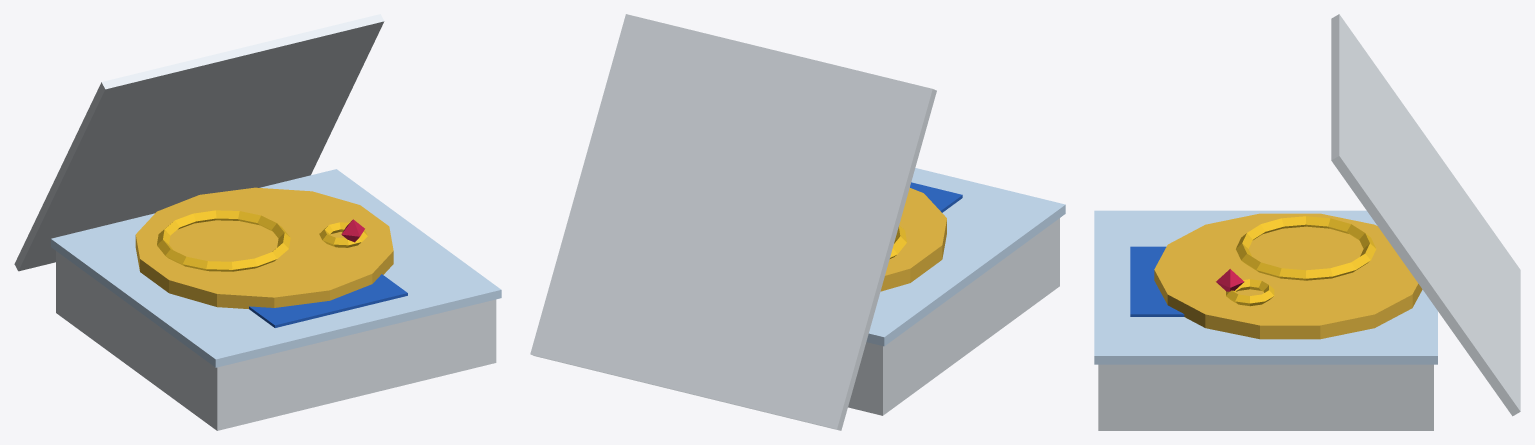
The model's file is frozen_pizza_jewels.glb.
The picture shows the model from 3 angles, left to right: view 1: azimuth 30°, elevation 25°; view 2: azimuth 150°, elevation 25°; view 3: azimuth 270°, elevation 25°; orthographic projection. The views are drawn at different scales.
Parts seen in each view (by area): view 1: lid_frozen_card, box_frozen_card, frost_frost, cheese_pizza_cheese, necklace_jewel_gold, label_frozen_label, ring_jewel_gold; view 2: lid_frozen_card, box_frozen_card, frost_frost, cheese_pizza_cheese, label_frozen_label; view 3: lid_frozen_card, cheese_pizza_cheese, box_frozen_card, frost_frost, necklace_jewel_gold, label_frozen_label, ring_jewel_gold.
Boxes of the visible parts, x1,y1,x2,y2 form: lid_frozen_card: (14, 14, 384, 271); box_frozen_card: (56, 251, 496, 430); frost_frost: (51, 169, 501, 367); cheese_pizza_cheese: (135, 187, 393, 308); necklace_jewel_gold: (157, 210, 290, 271); label_frozen_label: (249, 274, 407, 327); ring_jewel_gold: (319, 222, 367, 247); lid_frozen_card: (530, 14, 936, 430); box_frozen_card: (848, 218, 1059, 415); frost_frost: (866, 168, 1065, 346); cheese_pizza_cheese: (880, 188, 946, 291); label_frozen_label: (910, 182, 962, 212); lid_frozen_card: (1331, 14, 1520, 416); cheese_pizza_cheese: (1154, 213, 1422, 339); box_frozen_card: (1098, 364, 1433, 430); frost_frost: (1094, 210, 1437, 364); necklace_jewel_gold: (1236, 216, 1376, 280); label_frozen_label: (1130, 246, 1184, 316); ring_jewel_gold: (1226, 279, 1274, 306).
Size of the model in its own units: 0.43 by 0.38 by 0.5335.
